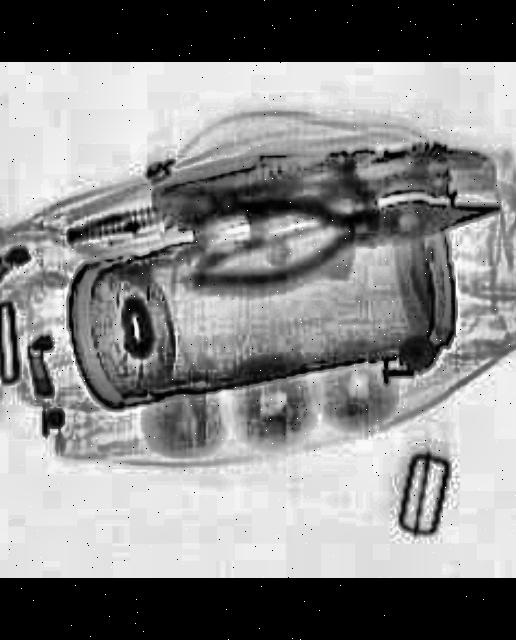Pliers: (176, 162, 506, 300)
